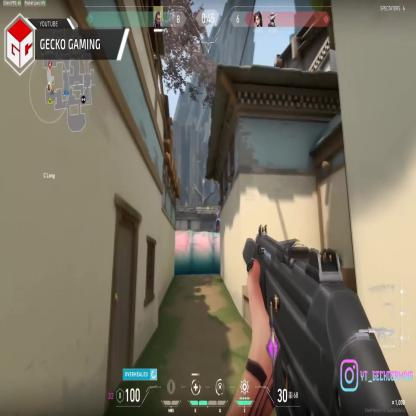enemy: (216, 206, 221, 232)
enemy_head: (217, 207, 219, 212)
